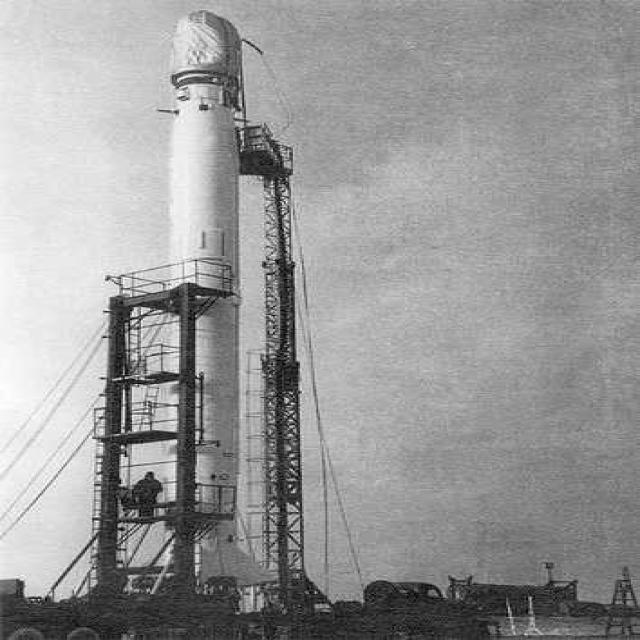missile: (153, 2, 284, 592)
